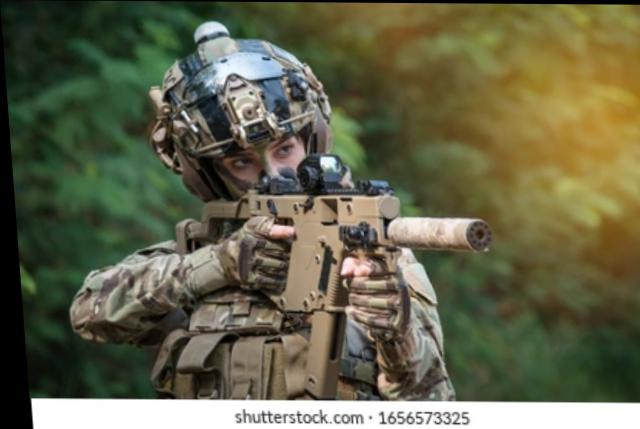other: (139, 23, 441, 395)
